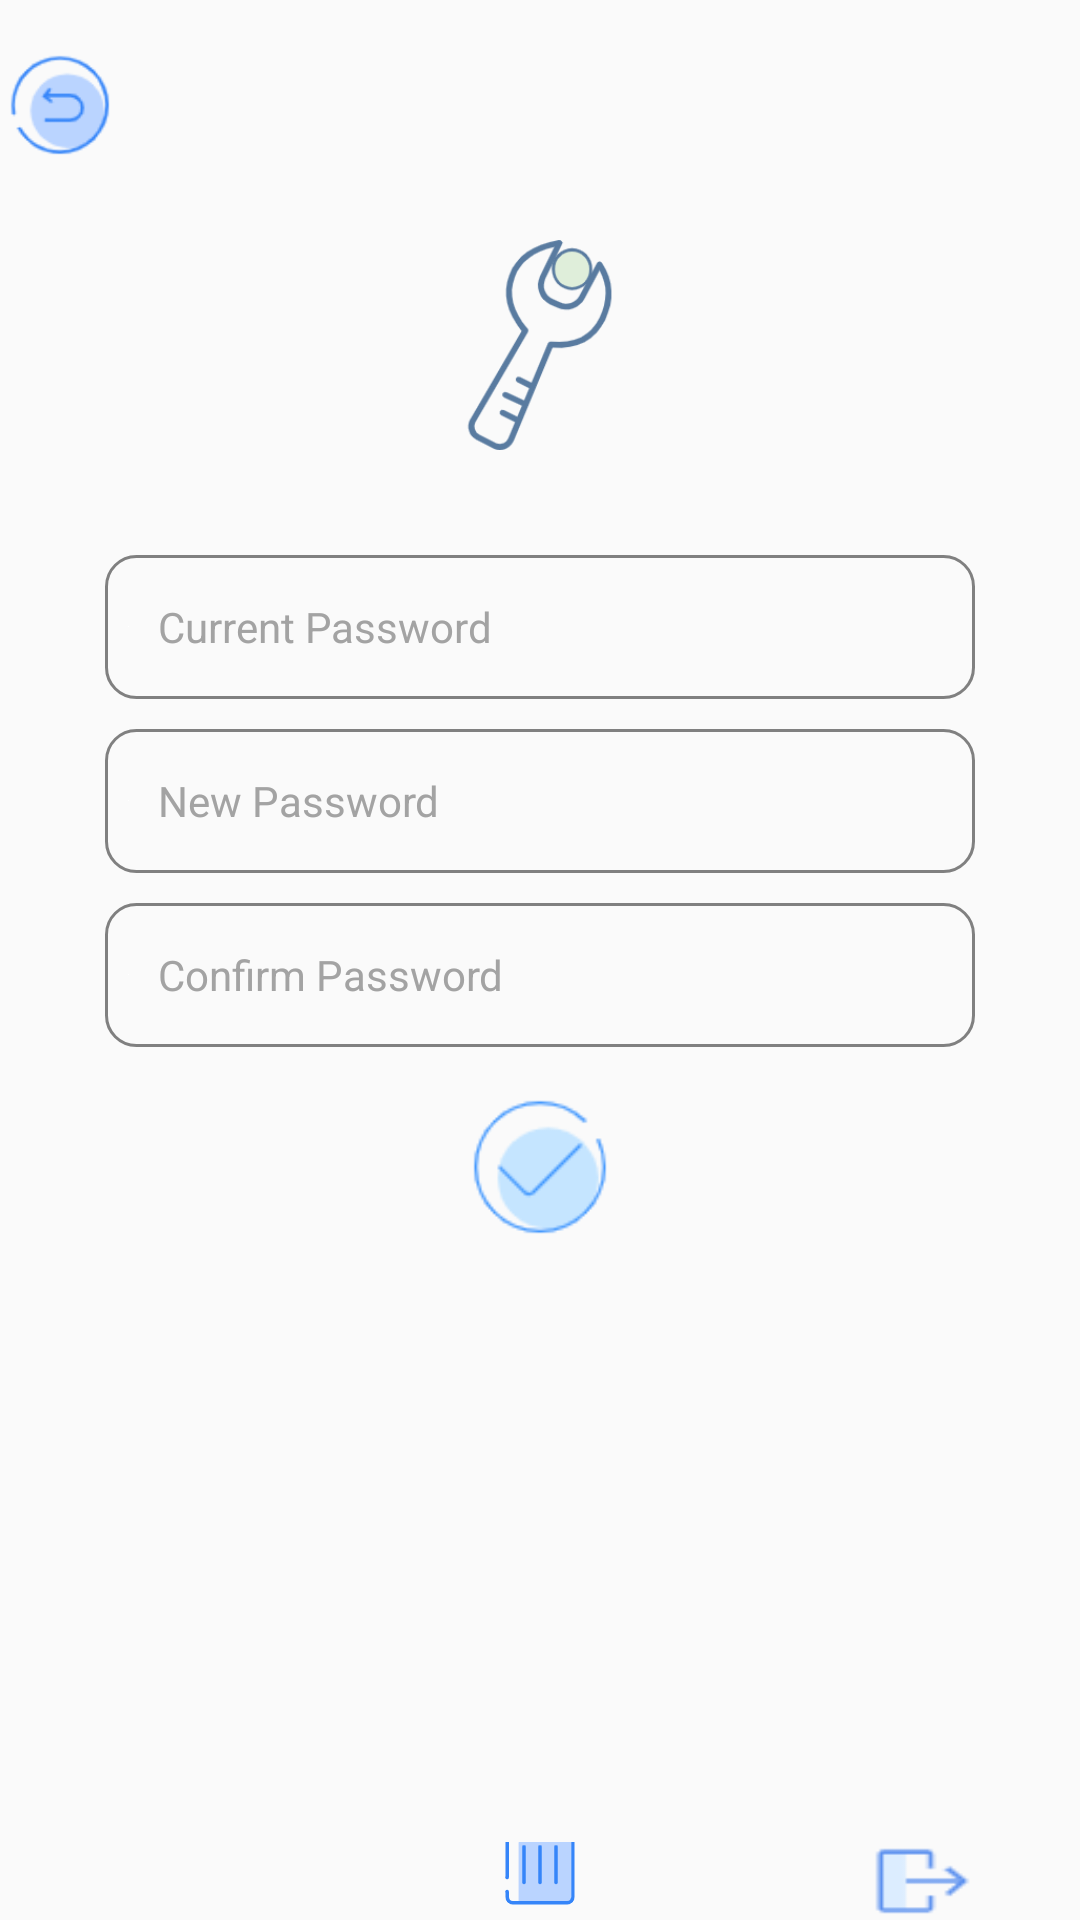

Where to tap for icons on this 1080px x 1920px app screen, as (x=x, y=y):
back: (x=60, y=105)
change password: (x=540, y=345)
sign out: (x=922, y=1881)
